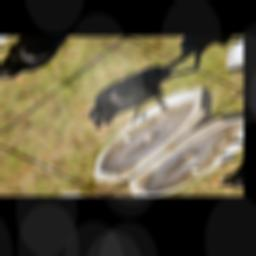Crow: (67, 49, 211, 143)
